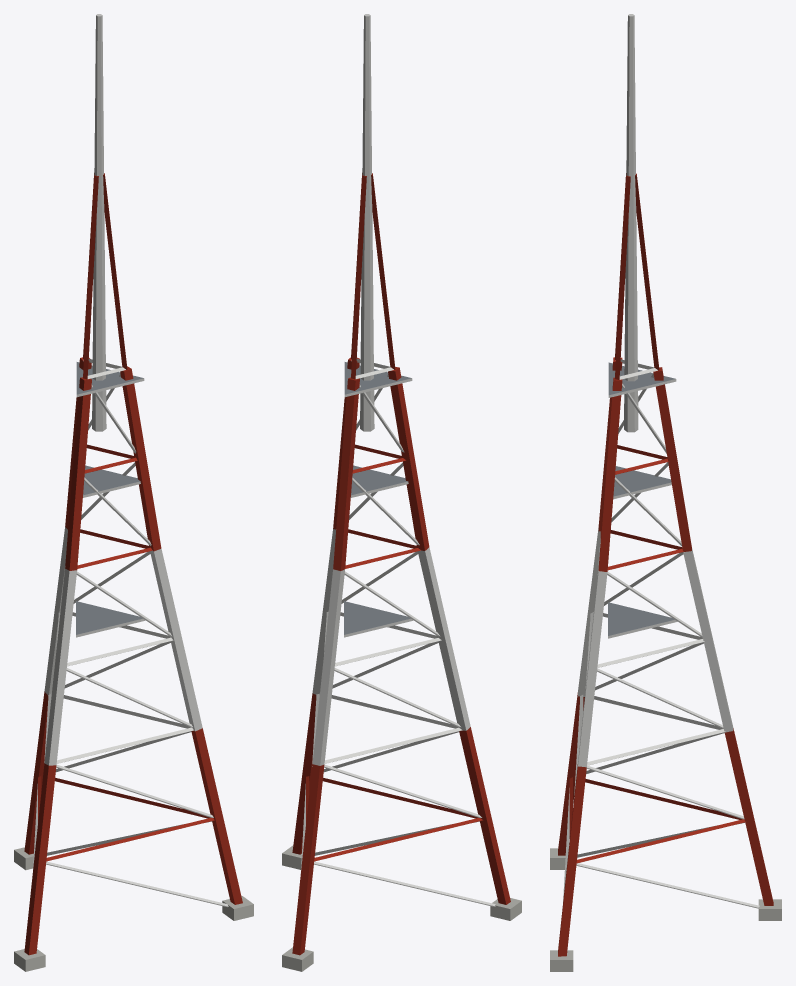
File: mobile.glb
3 views of the same model, side by side, from view 1: azimuth 30°, elevation 25°; view 2: azimuth 150°, elevation 25°; view 3: azimuth 270°, elevation 25° (orthographic).
Visible parts, largest first — view 1: lm.sutro-tower; view 2: lm.sutro-tower; view 3: lm.sutro-tower.
Part boxes in pixels (x1,y1,x2,y2): lm.sutro-tower: [14, 14, 253, 971]; lm.sutro-tower: [282, 14, 521, 971]; lm.sutro-tower: [550, 14, 781, 971].
Bounding box in the file's own units: 79.75 × 300 × 70.
